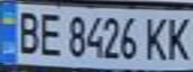2: (103, 14, 124, 61)
4: (84, 12, 106, 60)
6: (118, 14, 142, 61)
8: (63, 11, 87, 58)
B: (9, 7, 42, 55)
E: (33, 8, 66, 57)
K: (139, 14, 172, 62), (163, 14, 193, 62)
